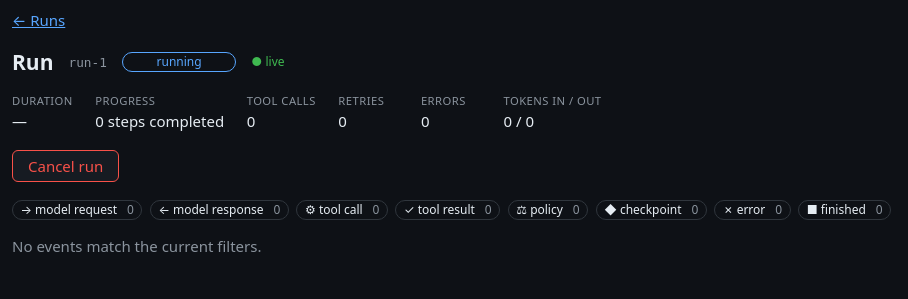
Test case: RunDetailPage actions › shows a failed action inline and keeps the run's status
This screenshot has width=908, height=299.
Step 1. Click the button "Cancel run" → (66, 166), box 12,150 -> 119,182
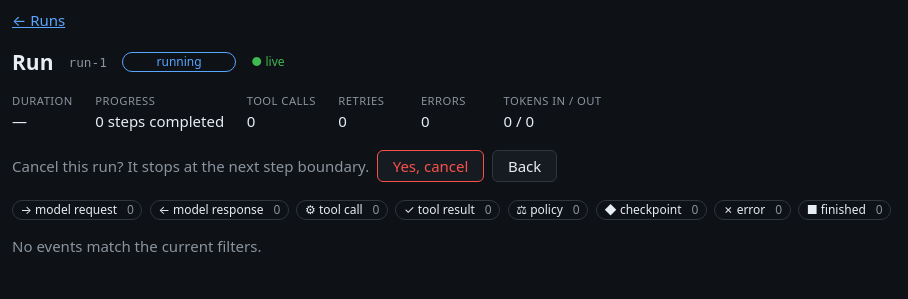
Step 2. Click the button "Yes, cancel" → (431, 166), box 377,150 -> 484,182
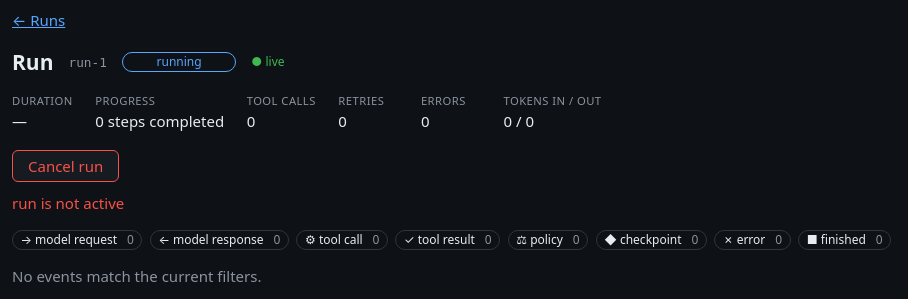
Now the message reads "run is not active", box 12,193 -> 124,213
Now the button "Cancel run" is shown, box 12,150 -> 119,182
